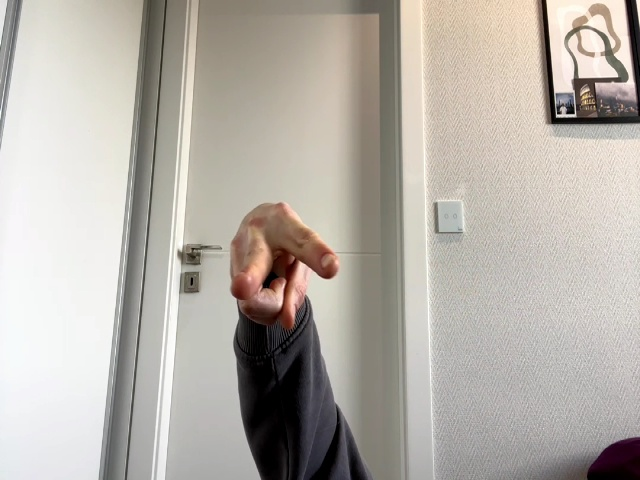U: (230, 201, 339, 330)
